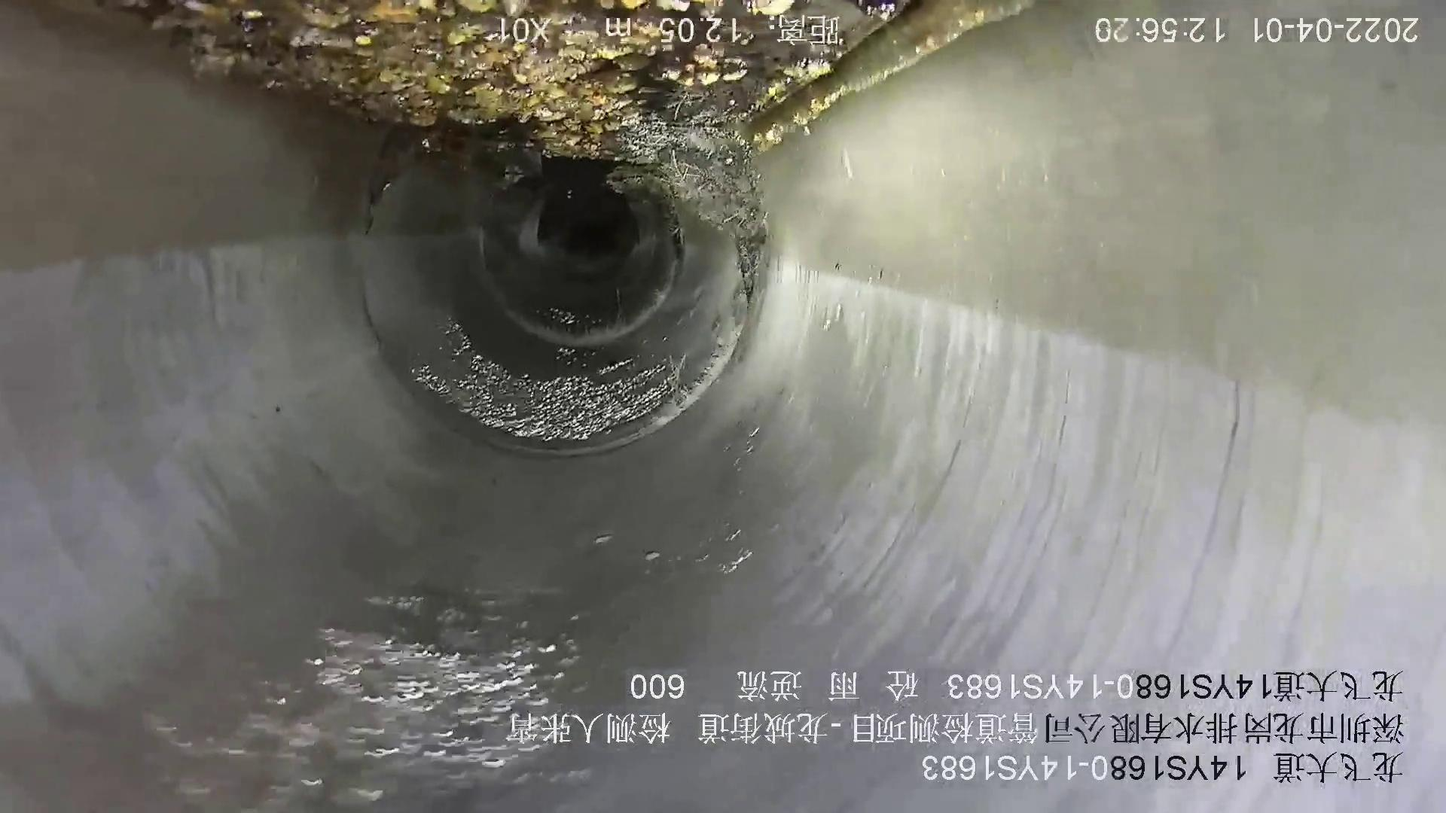CJ: (92, 1, 908, 279)
CKTJ: (357, 123, 765, 464)
